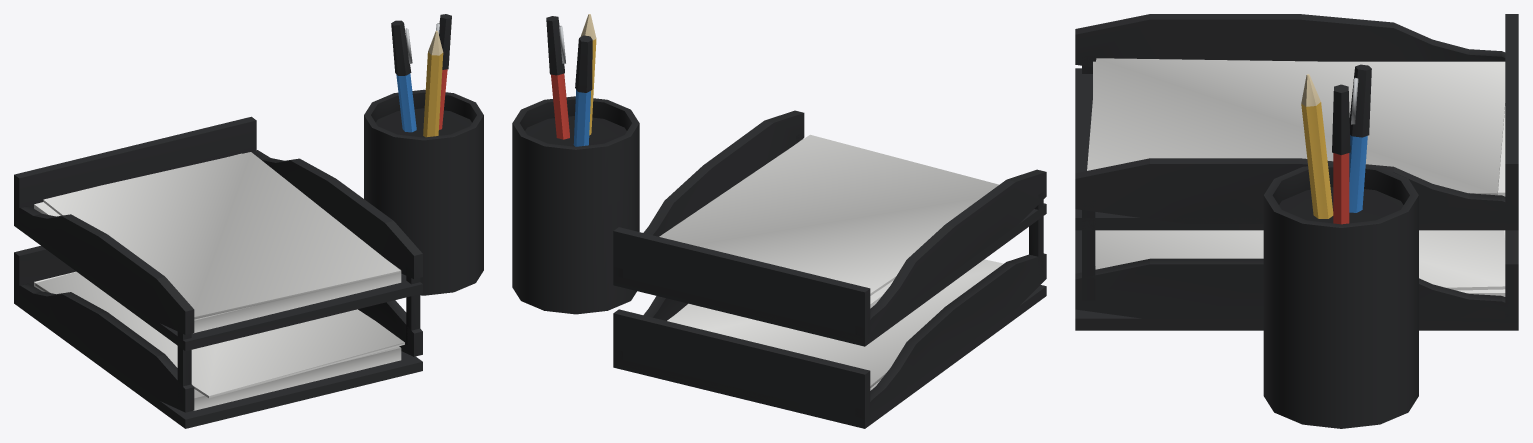
Rendered from deskOrganiser.glb.
3 renders of one model, left to right at view 1: azimuth 30°, elevation 25°; view 2: azimuth 150°, elevation 25°; view 3: azimuth 270°, elevation 25°, orthographic. The views are drawn at different scales.
Parts seen in each view (by area): view 1: deskOrganiser; view 2: deskOrganiser; view 3: deskOrganiser.
Part boxes in pixels (x1,y1,x2,y2): deskOrganiser: [14, 14, 483, 428]; deskOrganiser: [512, 14, 1046, 428]; deskOrganiser: [1075, 14, 1518, 428].
Size of the model in its own units: 0.265 by 0.1604 by 0.2.
